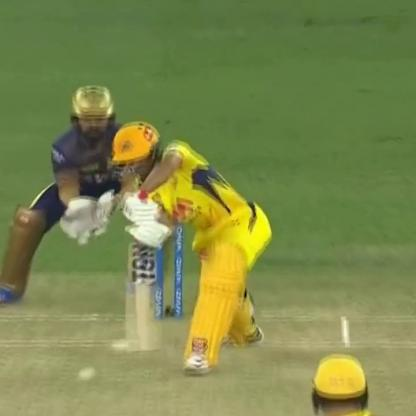ball: (72, 364, 98, 386)
bat: (116, 188, 168, 352), (108, 335, 132, 357)
pitch: (4, 298, 416, 415)
